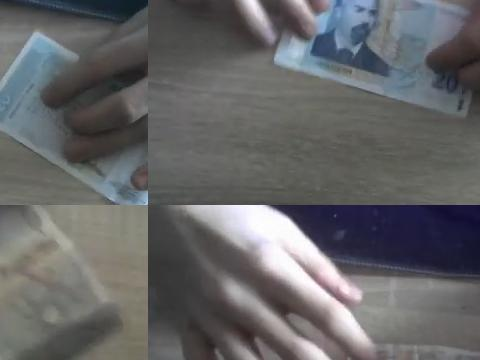20leva: (0, 32, 148, 205)
